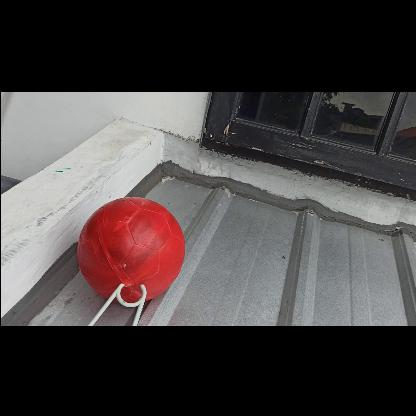red_ball: (76, 196, 182, 304)
